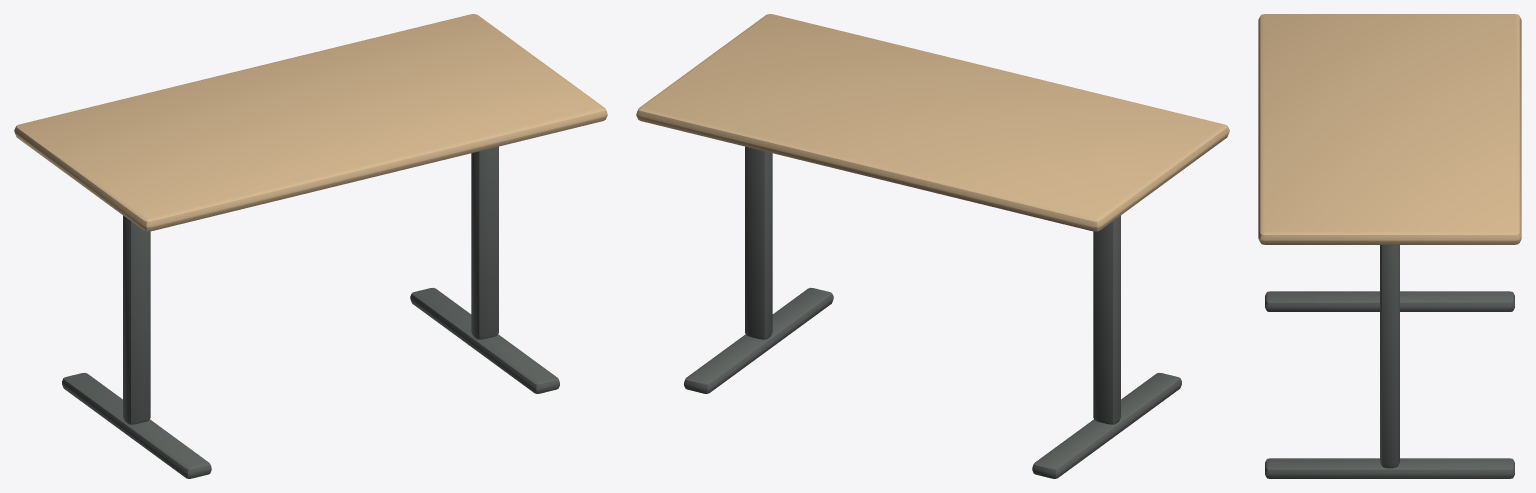
The model's file is work_table.glb.
The picture shows the model from 3 angles, left to right: view 1: azimuth 30°, elevation 25°; view 2: azimuth 150°, elevation 25°; view 3: azimuth 270°, elevation 25°; orthographic projection.
Parts seen in each view (by area): view 1: FURN-work_table; view 2: FURN-work_table; view 3: FURN-work_table.
Part boxes in pixels (x1,y1,x2,y2): FURN-work_table: (14,14,607,478); FURN-work_table: (636,14,1229,478); FURN-work_table: (1258,14,1521,478).
Bounding box in the file's own units: 1.6 × 0.9 × 0.8.
